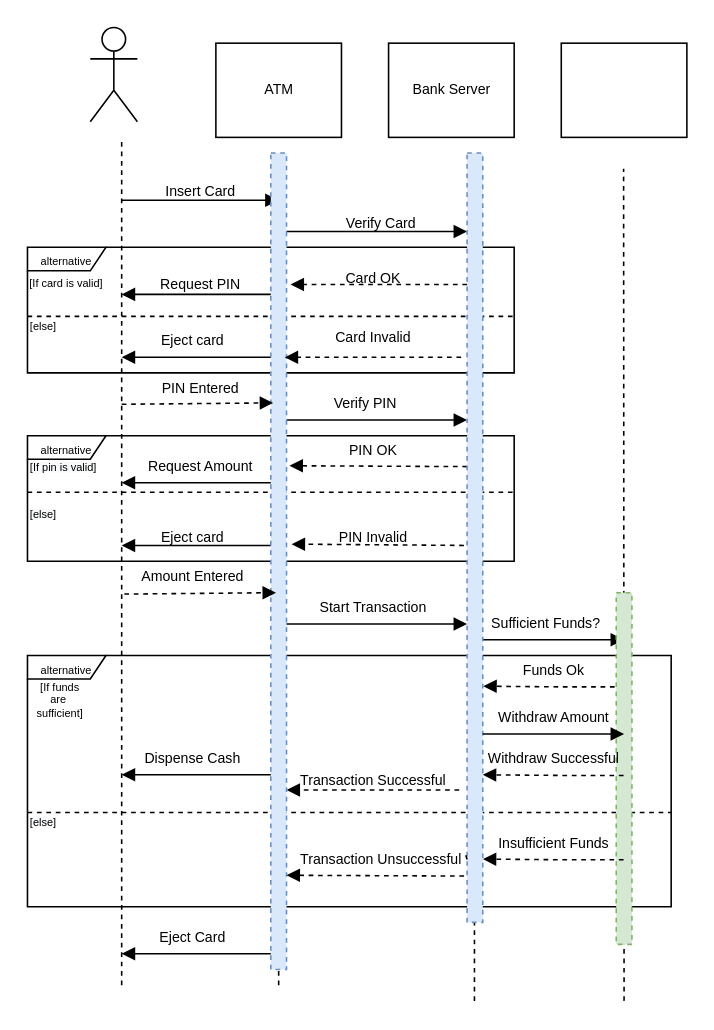
The diagram is 714 pixels wide and 1030 high, and some of its shapes have lost their labels. The centre of each missing label's shape, as x and y in pixels:
"Actor" goes at point 113,74.
"Bank Account" goes at point 623,89.
